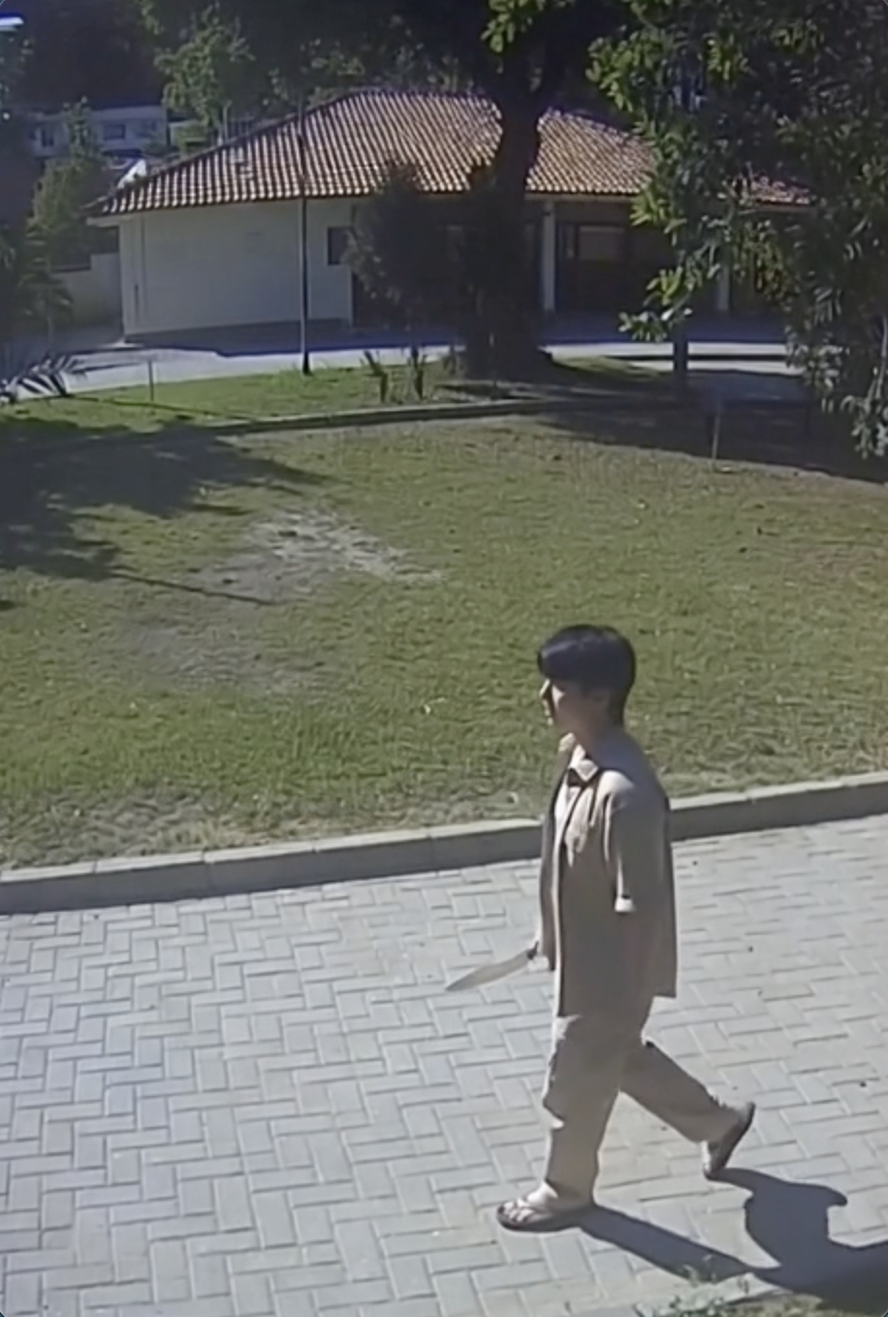Heavy Gun: (485, 622, 768, 1233)
Knife: (437, 926, 554, 1002)
